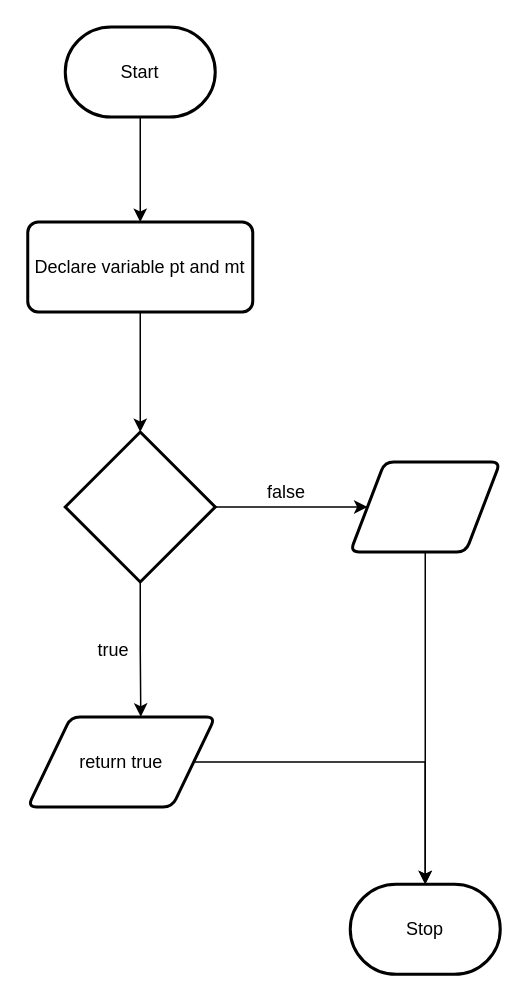
This 527x1002 diagram has some shape labels left out. Each missing label, with the centre of its shape:
"if mt.find()" goes at pixel 139 506.
"return false" goes at pixel 424 506.
